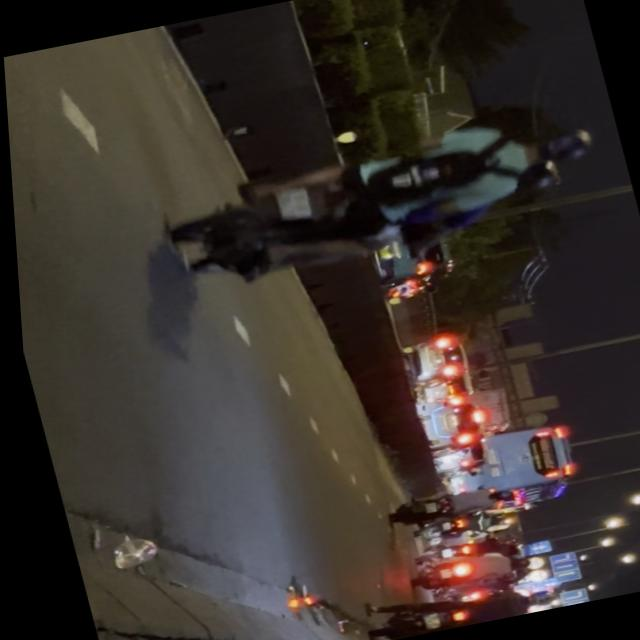helmet: (522, 124, 593, 170)
licenseplate: (151, 104, 616, 296)
nohelmet: (273, 182, 313, 220)
